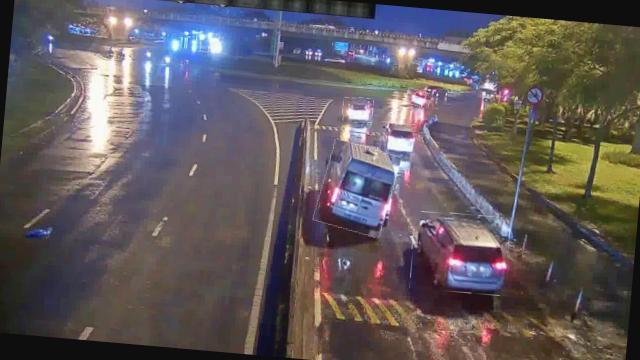Bus: (316, 142, 399, 238)
Car: (408, 210, 512, 297), (380, 121, 414, 154), (342, 96, 374, 124), (406, 88, 432, 109)
